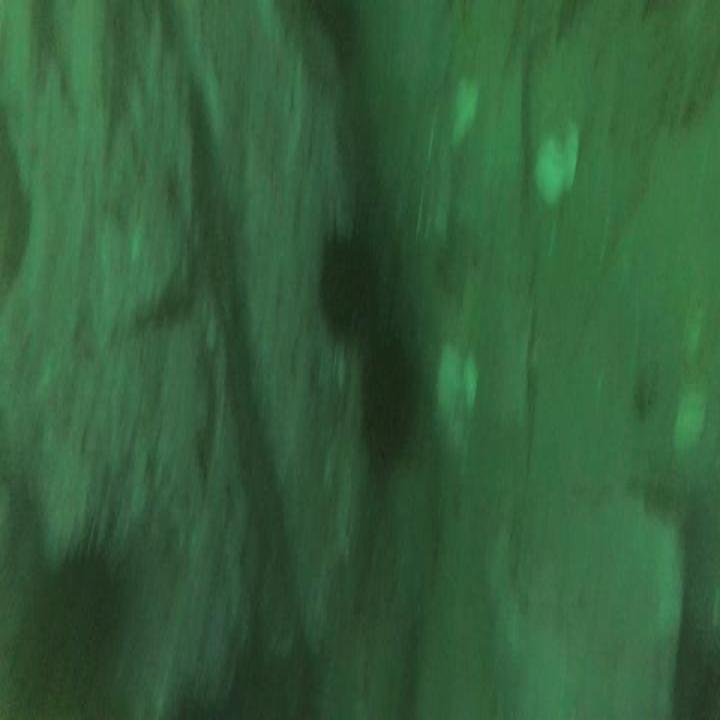echinus: (13, 508, 135, 720), (354, 314, 425, 484), (313, 201, 382, 348)
